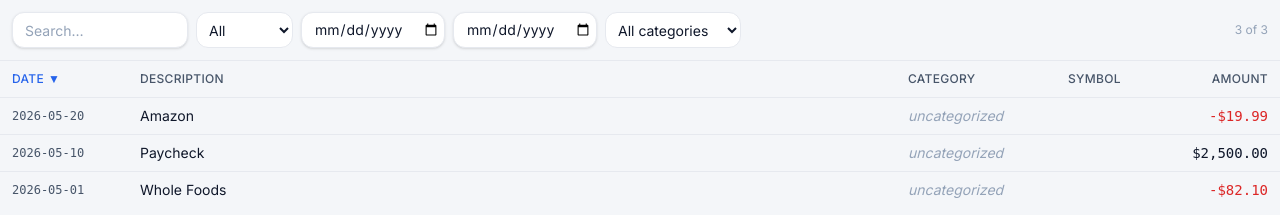
Scenario: TransactionRegister › activates a sort indicator when a header is clicked
Click the button "Amount".
click(1240, 79)  # box x1=1212 y1=71 x2=1268 y2=87
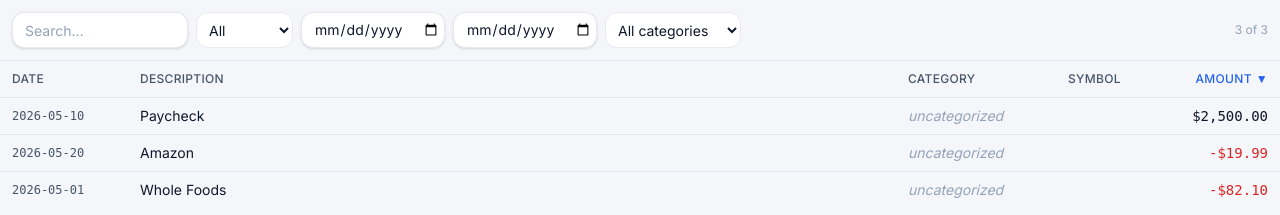
expect the button "Amount ▼" is shown: met, box x1=1196 y1=71 x2=1268 y2=87
